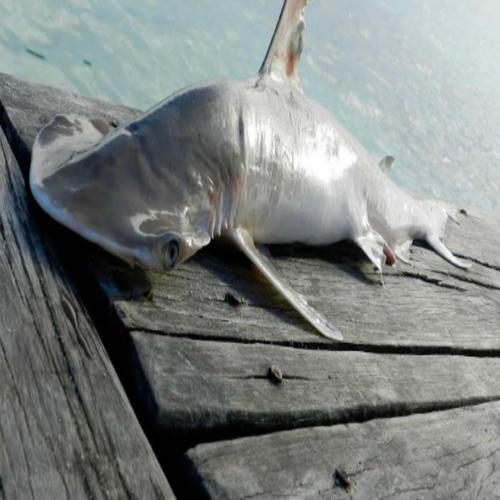shark-endangered: (28, 0, 471, 342)
